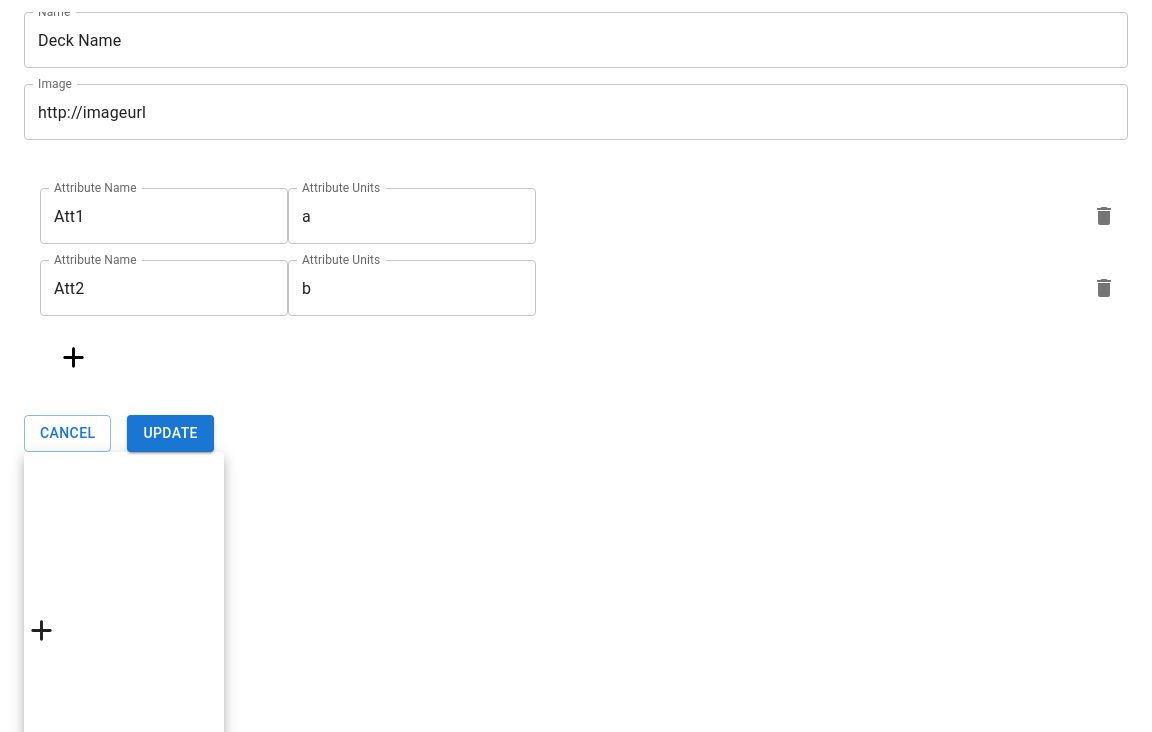
Test: Deck Edit › attributes › should remove attribute when delete attribute button is clicked
This screenshot has width=1152, height=732.
Step 1. Click the 1st button named "delete attribute" → (1104, 216), box [1084,196,1124,236]
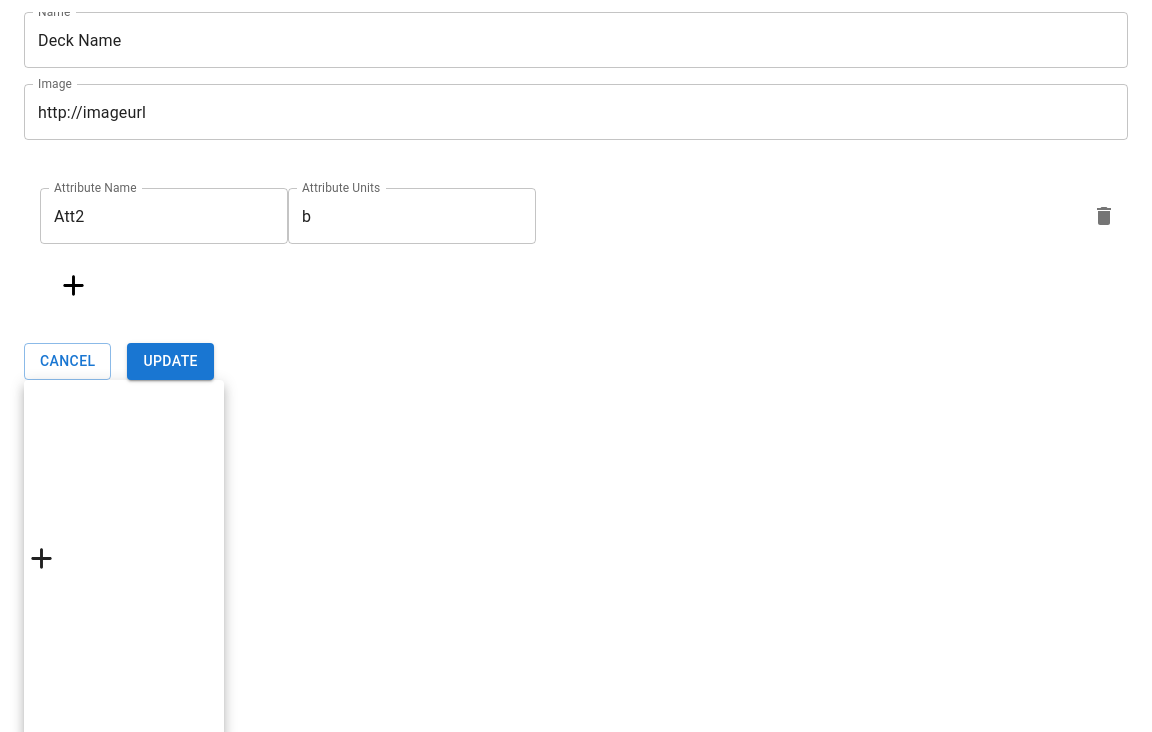
expect the number of fields labelled "Attribute Name" is 1: met, box [40,188,288,244]
expect the field labelled "Attribute Name" holds "Att2": met, box [40,188,288,244]
